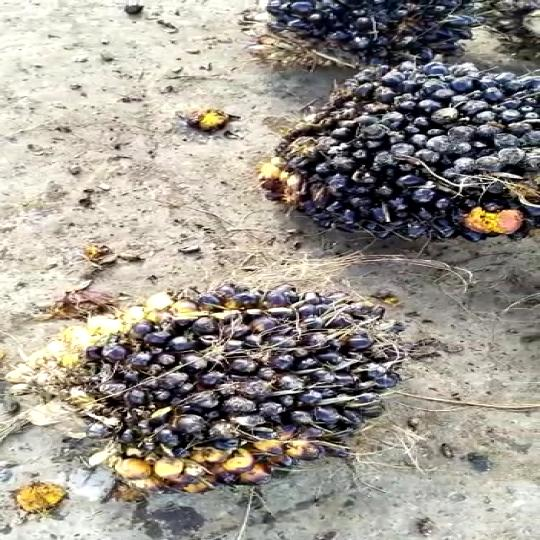mentah: (50, 272, 412, 506), (271, 53, 540, 257)
